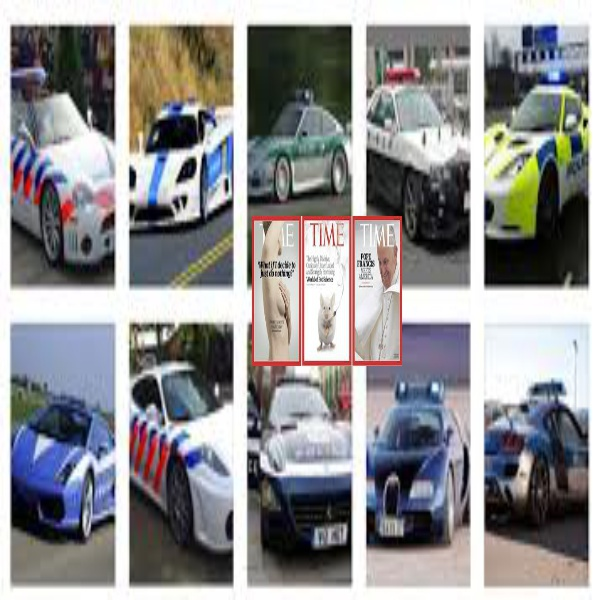time_cover: (251, 215, 296, 365), (356, 213, 400, 362), (306, 212, 348, 363)
